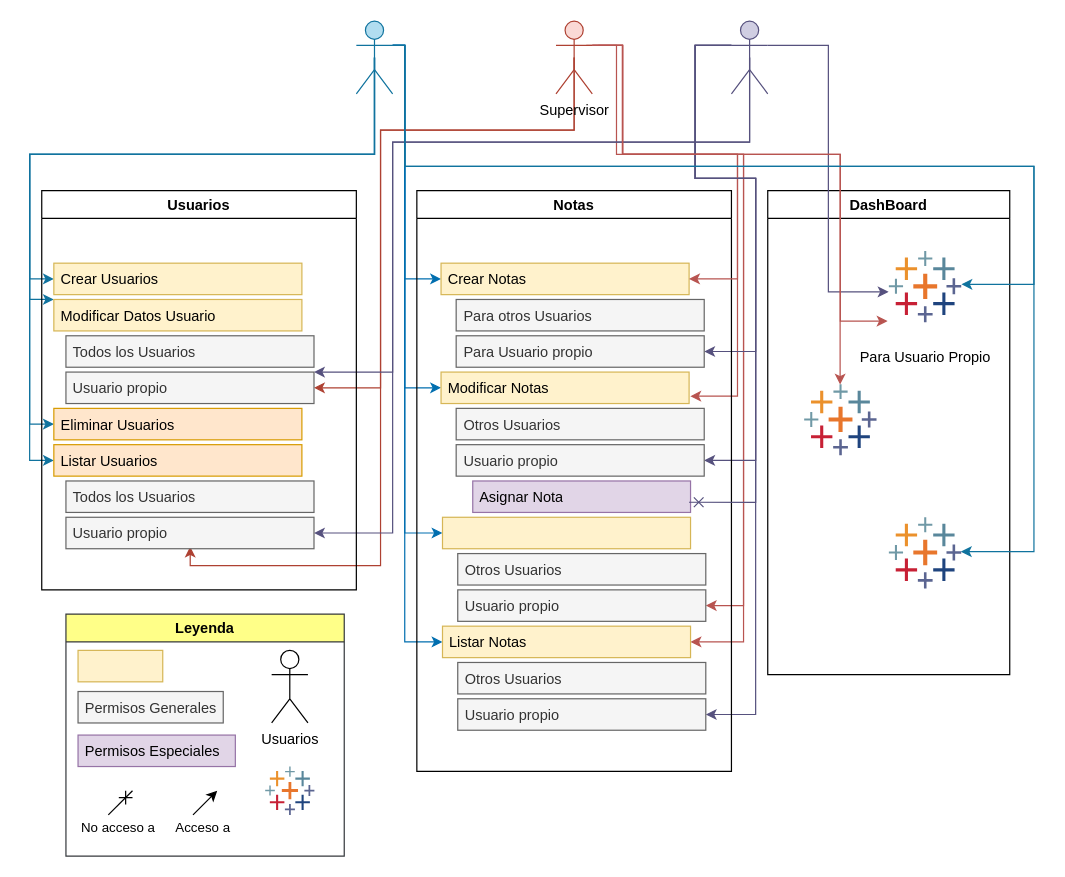
Some shapes in this 1065 by 877 pixel diagram are drawn without their labels. Here are the shapes that lost their labels. From the top down, the centre of each, then its label:
the point at 374,57: Admin
the point at 749,57: Colaborador
the point at 840,419: Para Equipo
the point at 566,532: Eliminar Notas
the point at 924,552: Generales
the point at 120,665: Funciones
the point at 289,790: Gráficos
